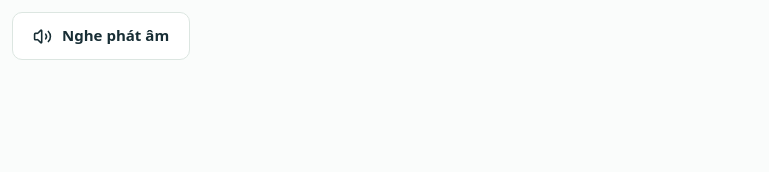
Scenario: pronunciation button › keeps real errors visible, clears them on retry and ignores old-word callbacks
Later steps or results of the test are not shown.
Click the button with aria-label "Nghe phát âm pencil": click(101, 36) [12, 12, 190, 60]
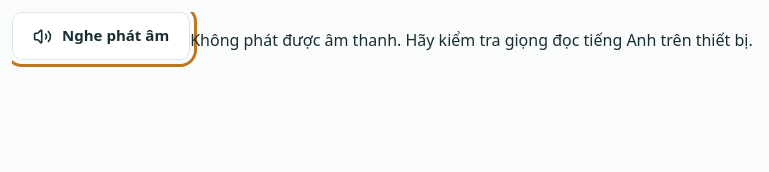
Result: the message shows "Không phát được âm thanh" at [190, 28, 753, 50]
